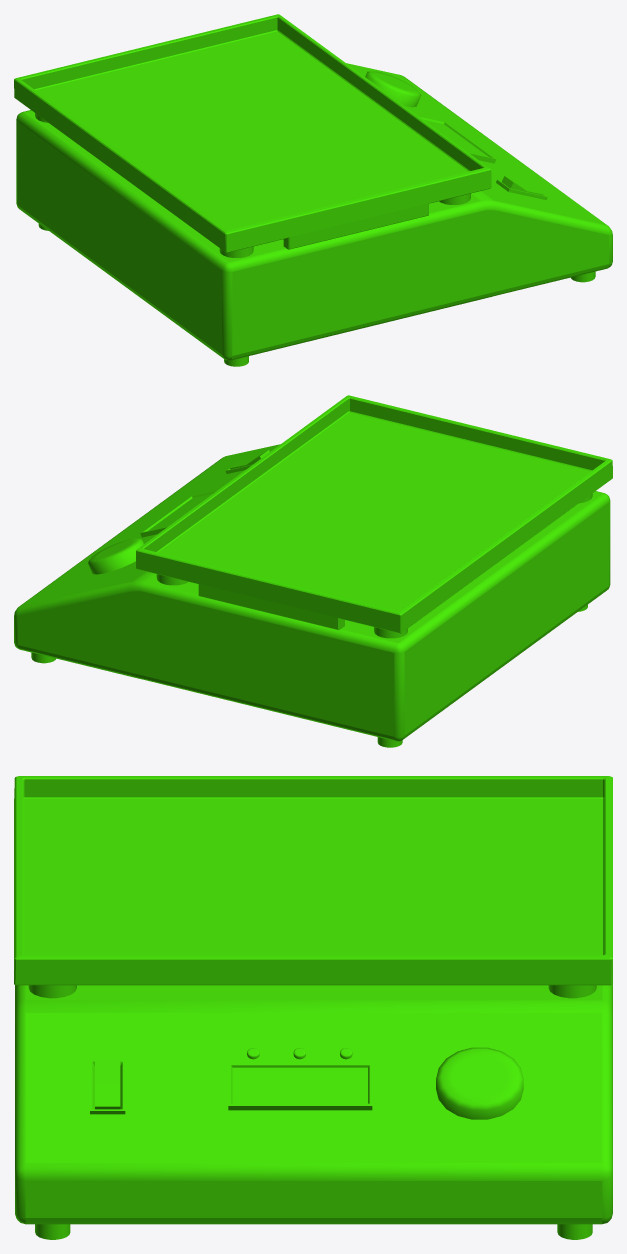
File: G_Agitator_01.fbx
The picture shows the model from 3 angles, top to bottom: view 1: azimuth 30°, elevation 25°; view 2: azimuth 150°, elevation 25°; view 3: azimuth 270°, elevation 25°; orthographic projection. The views are drawn at different scales.
Visible parts, largest first — view 1: agitator; view 2: agitator; view 3: agitator.
Part boxes in pixels (left/top/right/bottom): agitator: left=14, top=14, right=612, bottom=366; agitator: left=14, top=395, right=612, bottom=747; agitator: left=14, top=776, right=612, bottom=1239.
Bounding box in the file's own units: 469 × 165 × 443.
